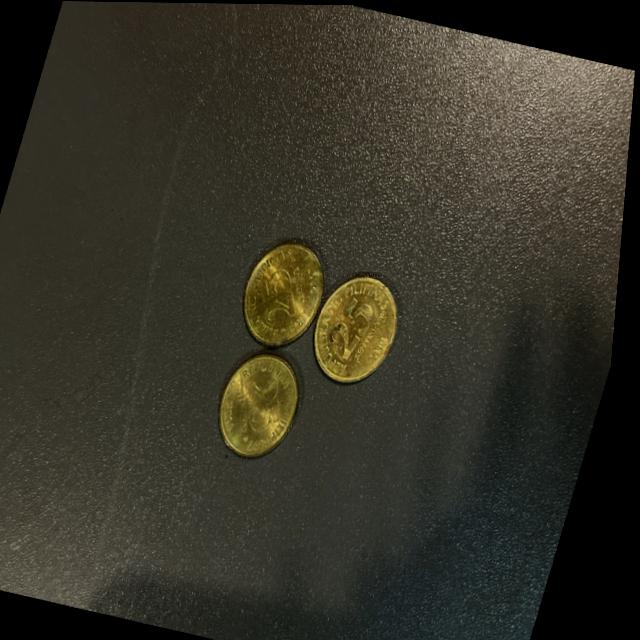25Cent_Old_Front: (306, 268, 412, 387)
